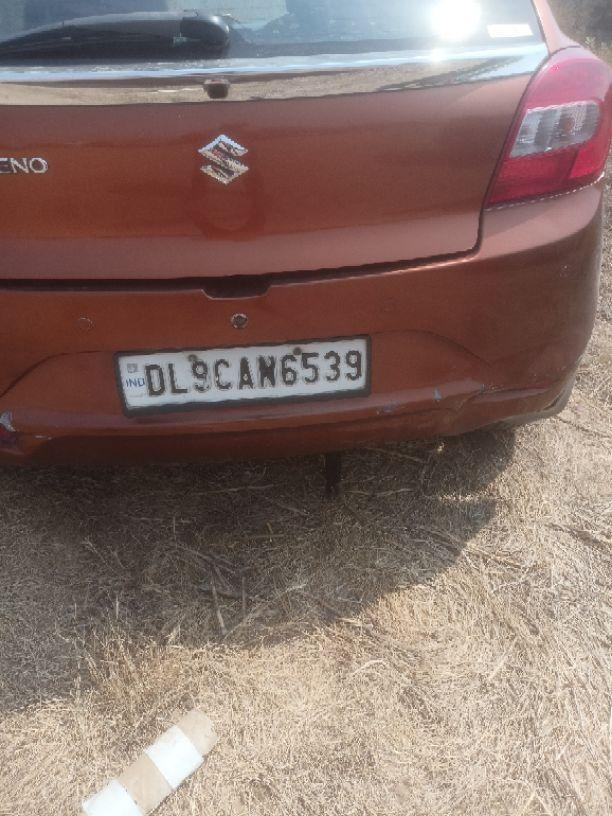license_plate: (112, 333, 372, 416)
